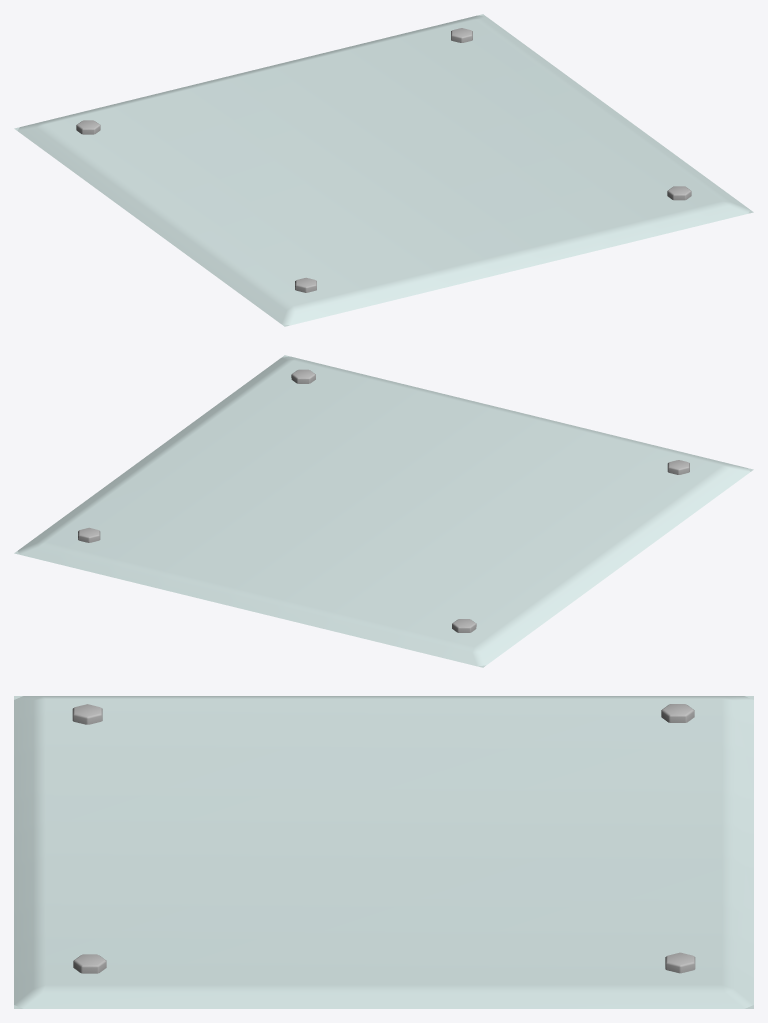
File: SM_Factory_Floor.fbx
3 renders of one model, top to bottom at view 1: azimuth 30°, elevation 25°; view 2: azimuth 150°, elevation 25°; view 3: azimuth 270°, elevation 25°, orthographic. The views are drawn at different scales.
Parts seen in each view (by area): view 1: pCylinder11; view 2: pCylinder11; view 3: pCylinder11.
Boxes of the visible parts, <box> form: pCylinder11: <box>14,14,753,326</box>; pCylinder11: <box>14,355,753,667</box>; pCylinder11: <box>14,696,753,1008</box>.
Bounding box in the file's own units: 200 × 200 × 5.39.
